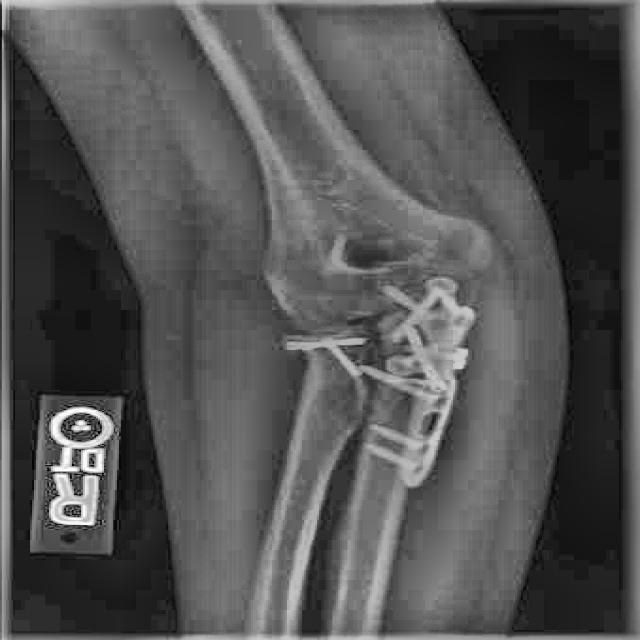elbow positive: (379, 178, 524, 278), (361, 377, 428, 441)
